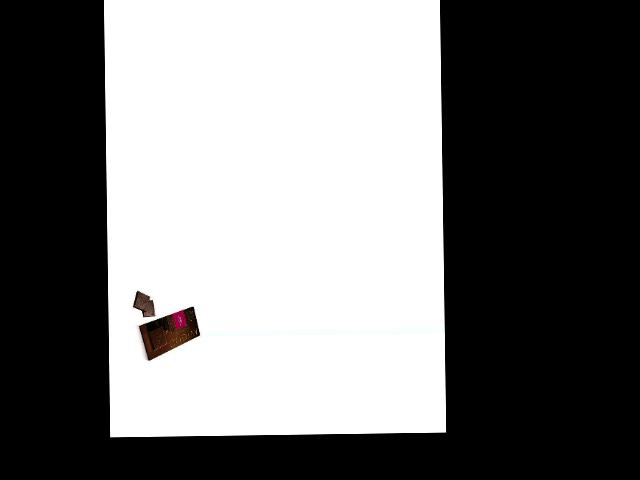chocolate: (137, 305, 201, 361)
